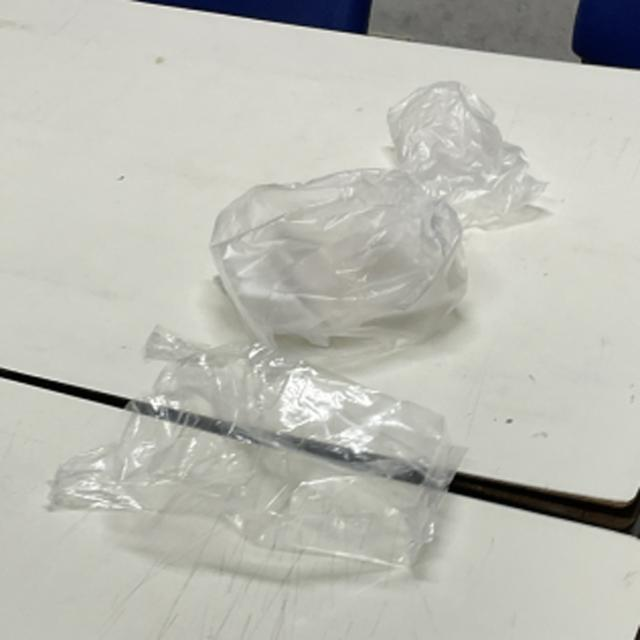Single-layer Plastic: (50, 328, 464, 566), (211, 81, 545, 346), (388, 81, 546, 228)
